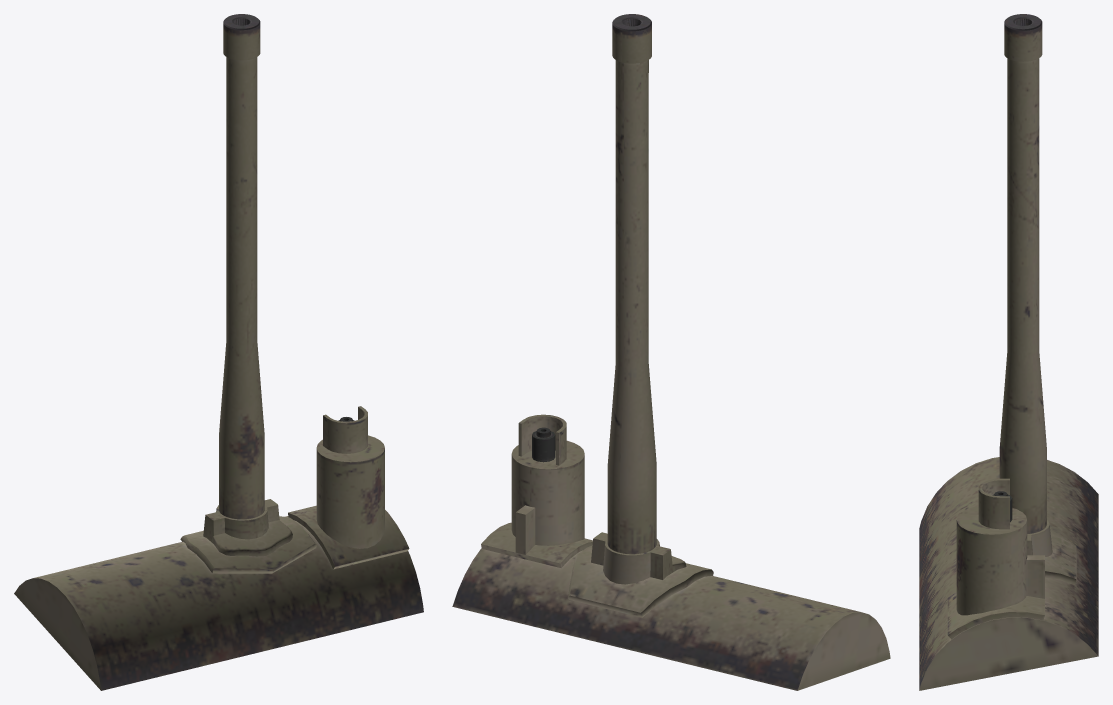
Rendered from Gun_03.glb.
The picture shows the model from 3 angles, left to right: view 1: azimuth 30°, elevation 25°; view 2: azimuth 150°, elevation 25°; view 3: azimuth 270°, elevation 25°; orthographic projection. The views are drawn at different scales.
Parts seen in each view (by area): view 1: set_0_group_0; view 2: set_0_group_0; view 3: set_0_group_0.
Part boxes in pixels (x1=…): set_0_group_0: x1=14, y1=14, x2=423, y2=690; set_0_group_0: x1=452, y1=14, x2=890, y2=690; set_0_group_0: x1=919, y1=14, x2=1098, y2=690.
Bounding box in the file's own units: 0.8502 × 1.47 × 0.3977.
1 material, 1 textured.
